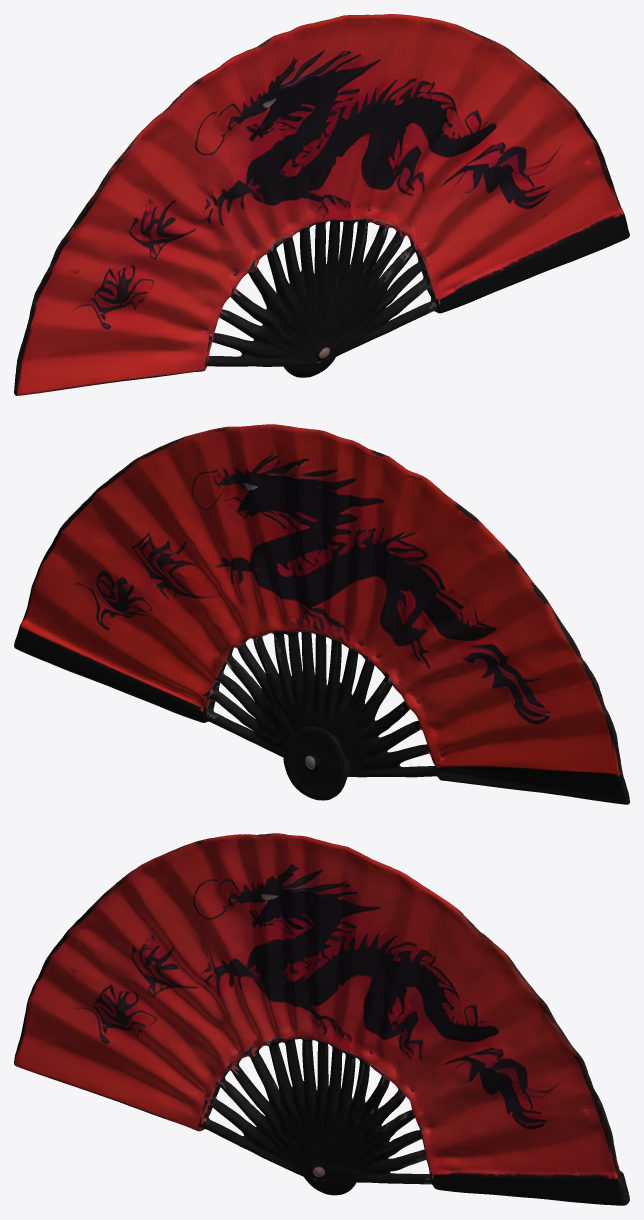
File: romantex_12.glb
The picture shows the model from 3 angles, top to bottom: view 1: azimuth 30°, elevation 25°; view 2: azimuth 150°, elevation 25°; view 3: azimuth 330°, elevation 25°; orthographic projection.
Parts seen in each view (by area): view 1: texture_v130_hdr_21w_pbr_dino_11w.001; view 2: texture_v130_hdr_21w_pbr_dino_11w.001; view 3: texture_v130_hdr_21w_pbr_dino_11w.001.
Part boxes in pixels (left/top/right/bottom): texture_v130_hdr_21w_pbr_dino_11w.001: left=14, top=14, right=629, bottom=395; texture_v130_hdr_21w_pbr_dino_11w.001: left=14, top=424, right=629, bottom=804; texture_v130_hdr_21w_pbr_dino_11w.001: left=14, top=833, right=629, bottom=1205.
Bounding box in the file's own units: 2 × 1.12 × 0.0901.
1 material, 1 textured.
